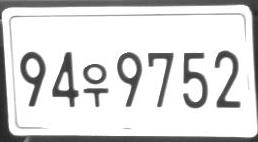2: (213, 49, 240, 108)
4: (51, 51, 78, 107)
5: (183, 52, 208, 108)
7: (148, 52, 173, 107)
9: (19, 51, 46, 106), (116, 51, 142, 107)
우: (82, 63, 109, 107)
